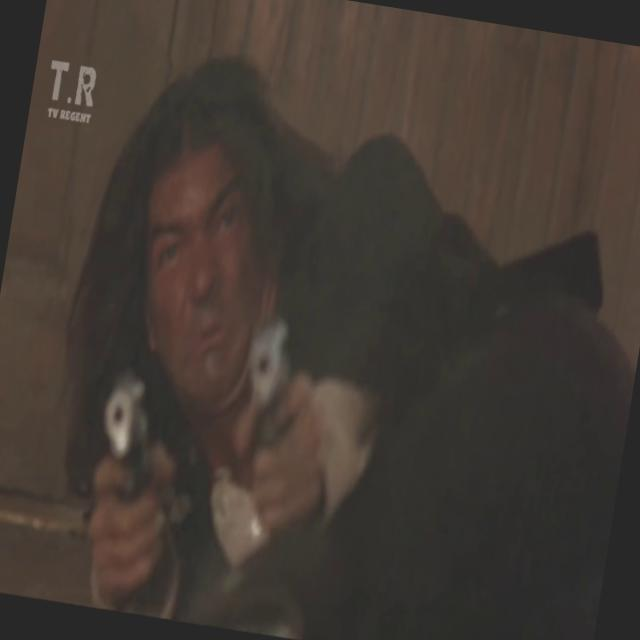handgun: (210, 295, 312, 504), (79, 362, 190, 536)
